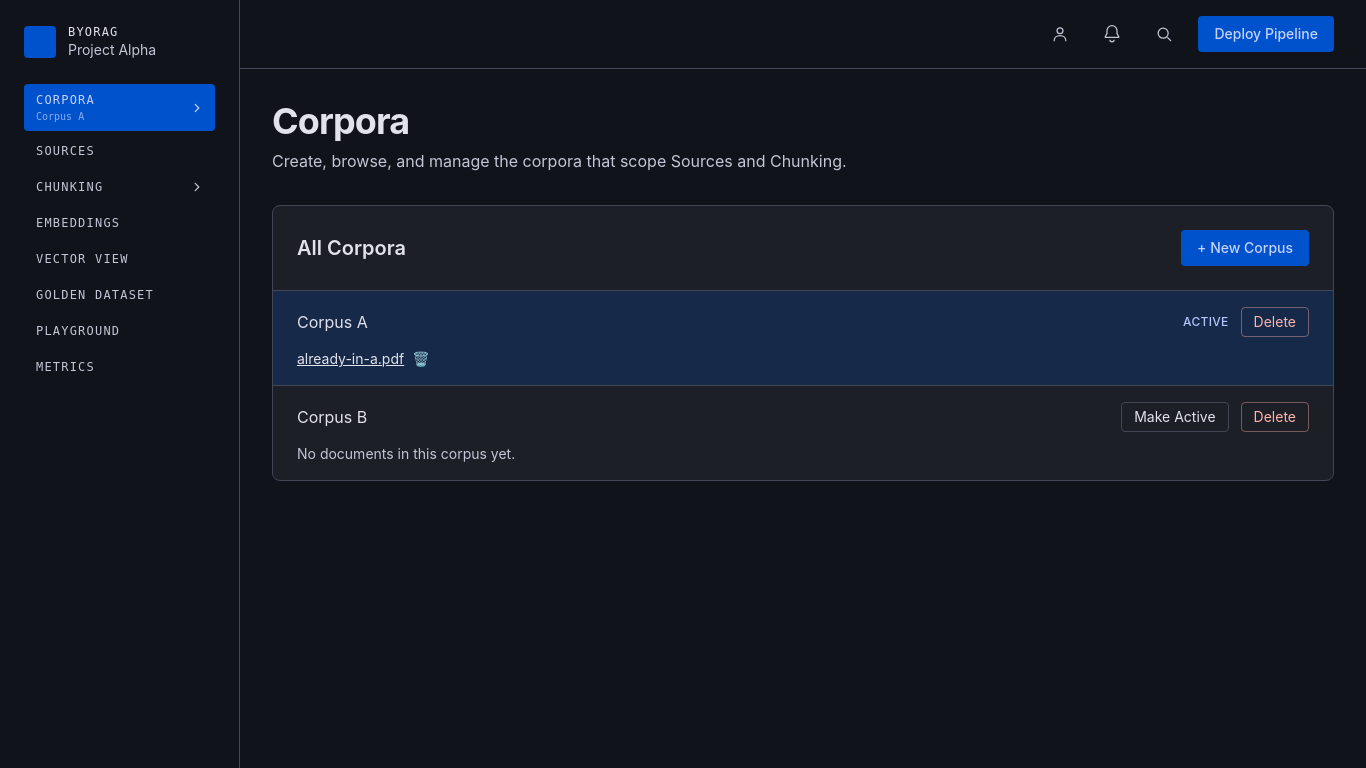
Test case: CorporaScreen document management (033-ui-ux-polish US1) › clicking the delete icon opens a confirmation modal without deleting
The width and height of the screenshot is (1366, 768).
Expected: the link "already-in-a.pdf" is shown, [297,349,404,369]
What coordinates should you click on to do the following:
click the button named "delete already-in-a.pdf"
I would click on:
 (421, 359)
Its box is [412,352,430,366].
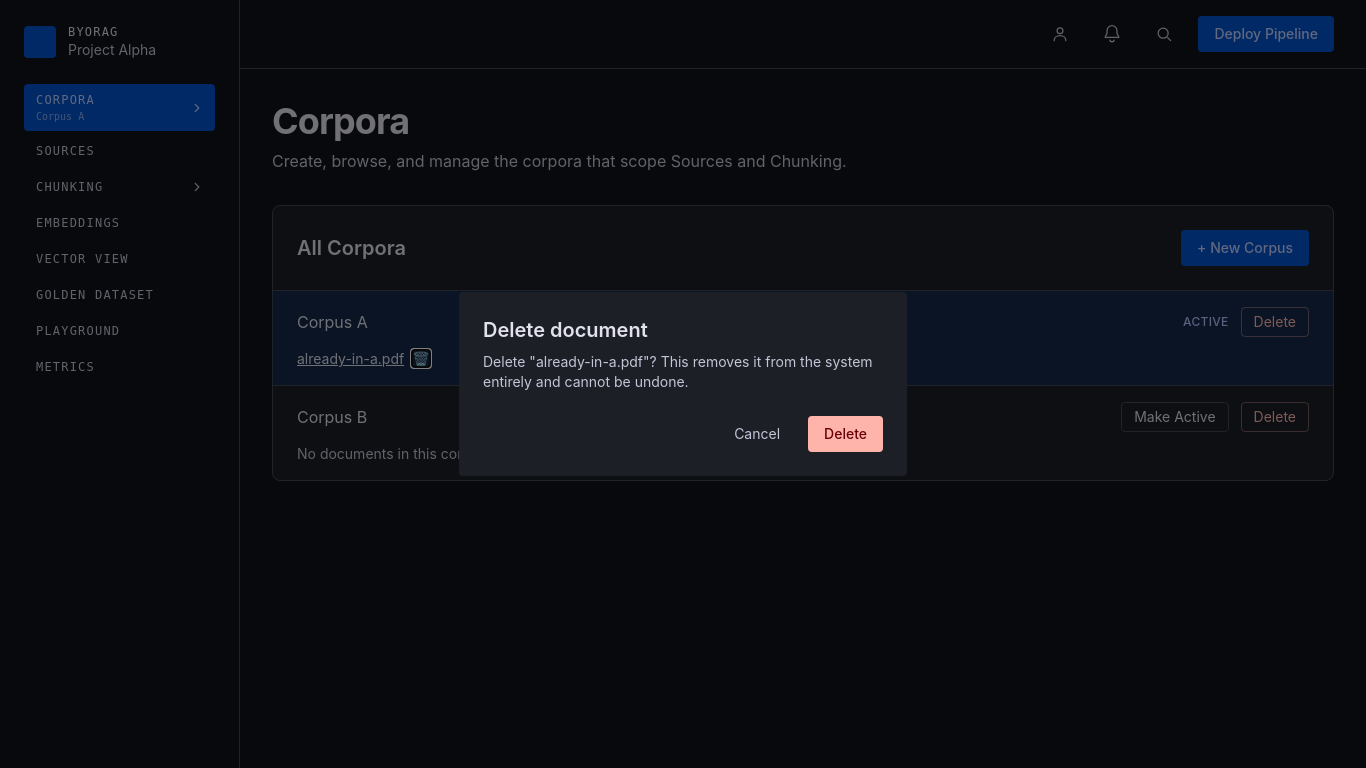
Expected: the dialog is shown, [459,292,907,476]
